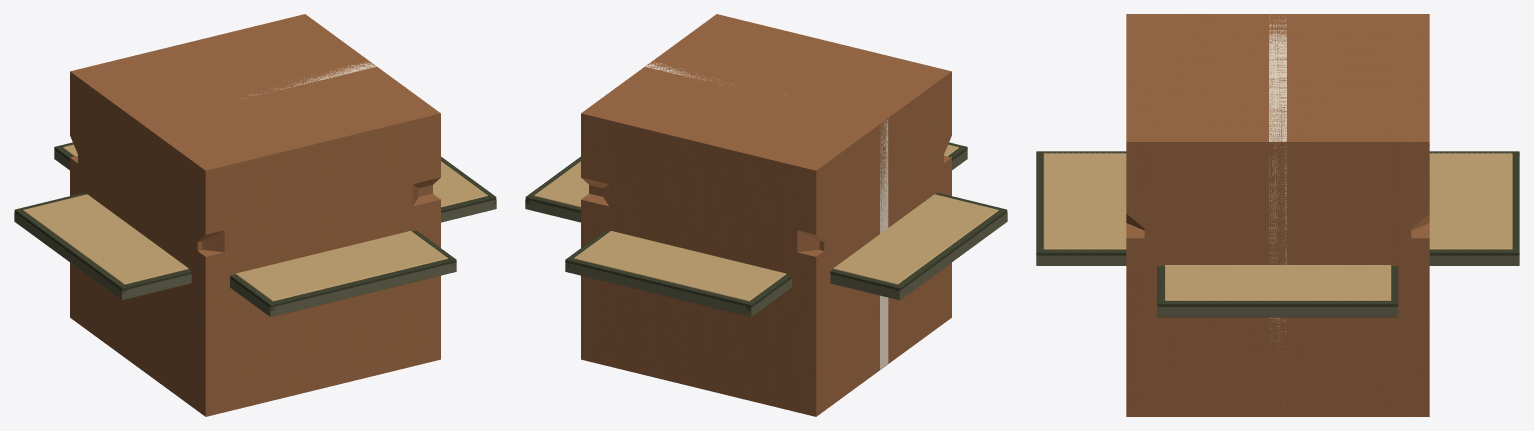
File: piso-e-perfis.glb
3 views of the same model, side by side, from view 1: azimuth 30°, elevation 25°; view 2: azimuth 150°, elevation 25°; view 3: azimuth 270°, elevation 25° (orthographic). The views are drawn at different scales.
Visible parts, largest first — view 1: BaseboardProfile - malha, SlatProfile - malha, CrownProfile - malha, DoorJambProfile - malha, MatWide - malha, MatLong - malha, DoorHeadProfile - malha, WallMaterial - malha; view 2: BaseboardProfile - malha, SlatProfile - malha, CrownProfile - malha, DoorJambProfile - malha, MatWide - malha, MatLong - malha, DoorHeadProfile - malha, WallMaterial - malha; view 3: BaseboardProfile - malha, CrownProfile - malha, SlatProfile - malha, DoorJambProfile - malha, MatLong - malha, MatWide - malha, DoorHeadProfile - malha, WallMaterial - malha.
Part boxes in pixels (<box>): BaseboardProfile - malha: <box>70,32,440,416</box>; SlatProfile - malha: <box>86,21,418,407</box>; CrownProfile - malha: <box>70,14,440,375</box>; DoorJambProfile - malha: <box>82,28,408,411</box>; MatWide - malha: <box>14,156,496,300</box>; MatLong - malha: <box>54,142,456,316</box>; DoorHeadProfile - malha: <box>70,39,440,416</box>; WallMaterial - malha: <box>196,61,376,110</box>; BaseboardProfile - malha: <box>581,32,951,416</box>; SlatProfile - malha: <box>603,21,935,408</box>; CrownProfile - malha: <box>581,14,951,356</box>; DoorJambProfile - malha: <box>620,28,937,411</box>; MatWide - malha: <box>525,156,1007,300</box>; MatLong - malha: <box>565,142,967,316</box>; DoorHeadProfile - malha: <box>581,40,951,415</box>; WallMaterial - malha: <box>645,62,888,369</box>; BaseboardProfile - malha: <box>1126,14,1429,416</box>; CrownProfile - malha: <box>1126,14,1429,416</box>; SlatProfile - malha: <box>1126,14,1429,416</box>; DoorJambProfile - malha: <box>1126,14,1429,416</box>; MatLong - malha: <box>1036,151,1519,265</box>; MatWide - malha: <box>1157,265,1398,317</box>; DoorHeadProfile - malha: <box>1126,14,1429,416</box>; WallMaterial - malha: <box>1269,15,1286,390</box>.
Bounding box in the file's own units: 1.59 × 1 × 1.59.
7 materials, 4 textured.
